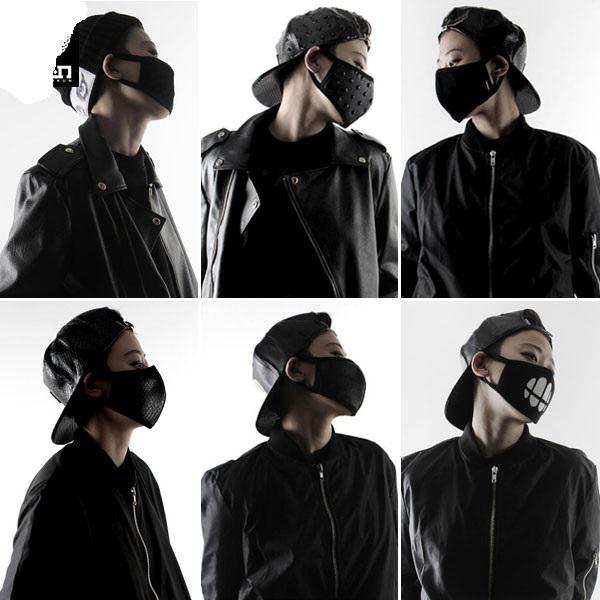OK: (102, 34, 182, 114), (89, 350, 168, 429), (485, 343, 562, 420), (431, 46, 505, 119), (297, 341, 369, 413), (306, 44, 374, 120)
